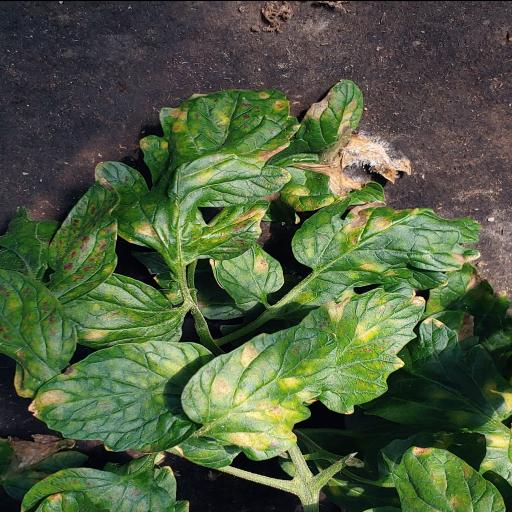disease_tomato: (94, 87, 300, 259), (290, 180, 482, 304), (25, 338, 214, 452), (181, 325, 339, 461), (300, 287, 426, 413), (208, 241, 284, 313)
